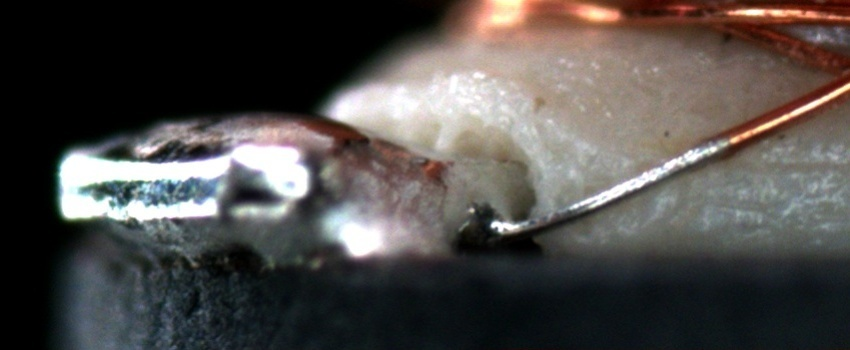DL: (738, 133, 849, 196)
TS: (491, 137, 732, 236)
